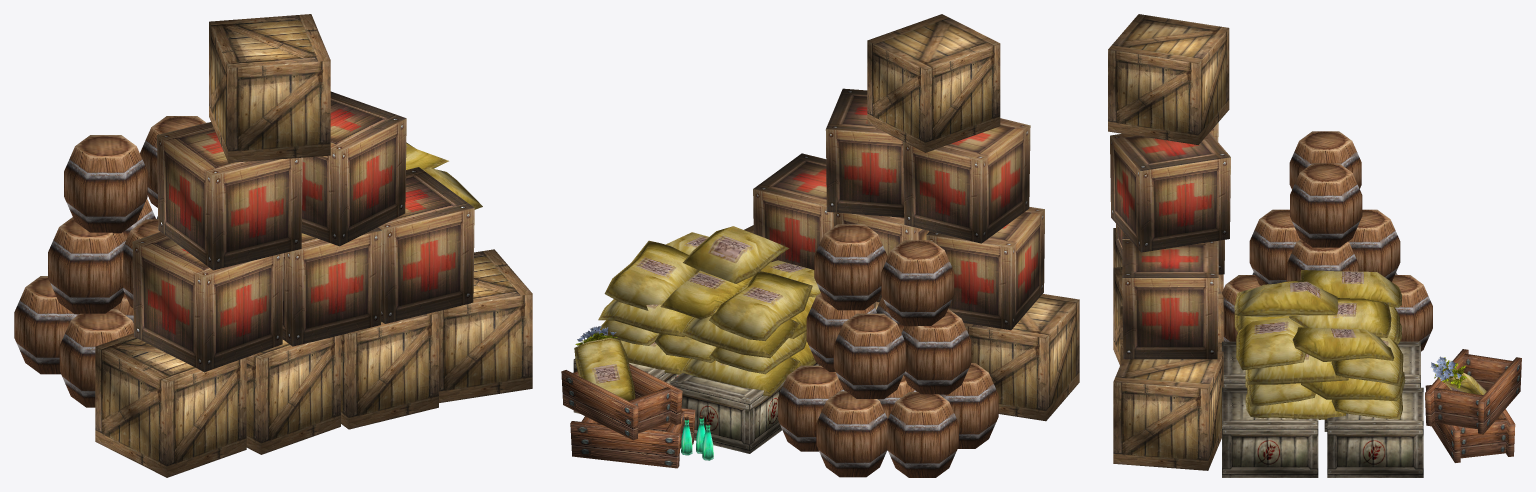
Rendered from hellfiresupplies_05.obj.
3 renders of one model, left to right at view 1: azimuth 30°, elevation 25°; view 2: azimuth 150°, elevation 25°; view 3: azimuth 270°, elevation 25°, orthographic. The views are drawn at different scales.
Parts seen in each view (by area): view 1: Geoset2, Geoset0, Geoset1, Geoset4; view 2: Geoset1, Geoset2, Geoset4, Geoset0, Geoset5, Geoset3, Geoset6; view 3: Geoset0, Geoset2, Geoset4, Geoset1, Geoset3, Geoset5.
Part boxes in pixels (x1,y1,x2,y2): Geoset2: (132,91,474,372); Geoset0: (95,14,532,477); Geoset1: (14,116,206,407); Geoset4: (406,142,482,209); Geoset1: (778,224,998,477); Geoset2: (753,88,1044,330); Geoset4: (574,226,820,400); Geoset0: (744,14,1079,421); Geoset5: (561,363,695,468); Geoset3: (573,336,818,453); Geoset6: (681,418,713,460); Geoset0: (1108,14,1229,470); Geoset2: (1110,122,1230,359); Geoset4: (1234,270,1486,419); Geoset1: (1222,131,1432,351); Geoset3: (1222,341,1423,477); Geoset5: (1425,349,1521,462).
Bounding box in the file's own units: 5.69 × 4.98 × 5.69.
Materials: 10 (10 with a texture image).
